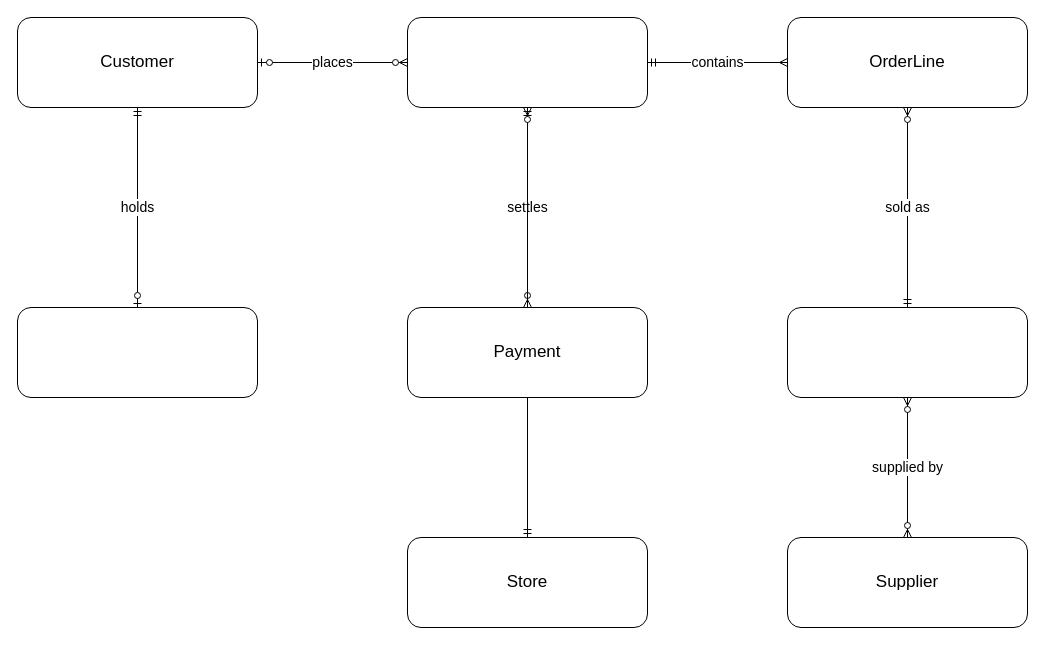
This 1045x645 diagram has some shape labels left out. The centre of each missing label's shape, as x and y in pixels:
"LoyaltyAccount" goes at [137,352].
"Order" goes at [527,62].
"Product" goes at [907,352].
